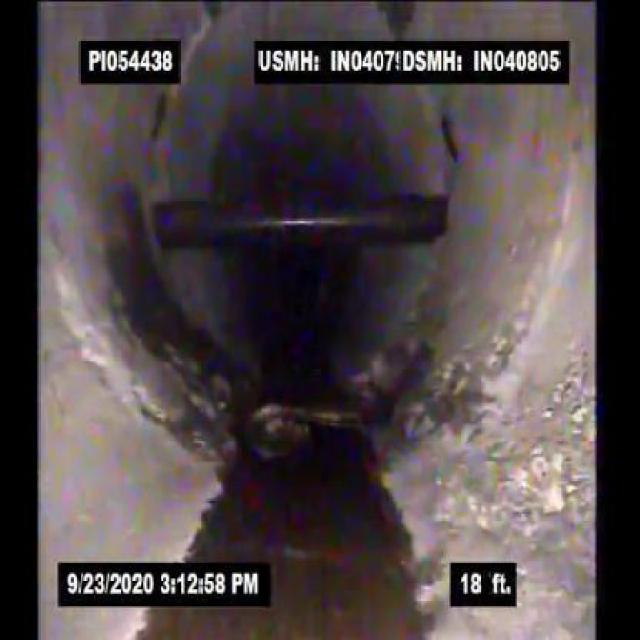Utility intrusion: (148, 188, 454, 260)
